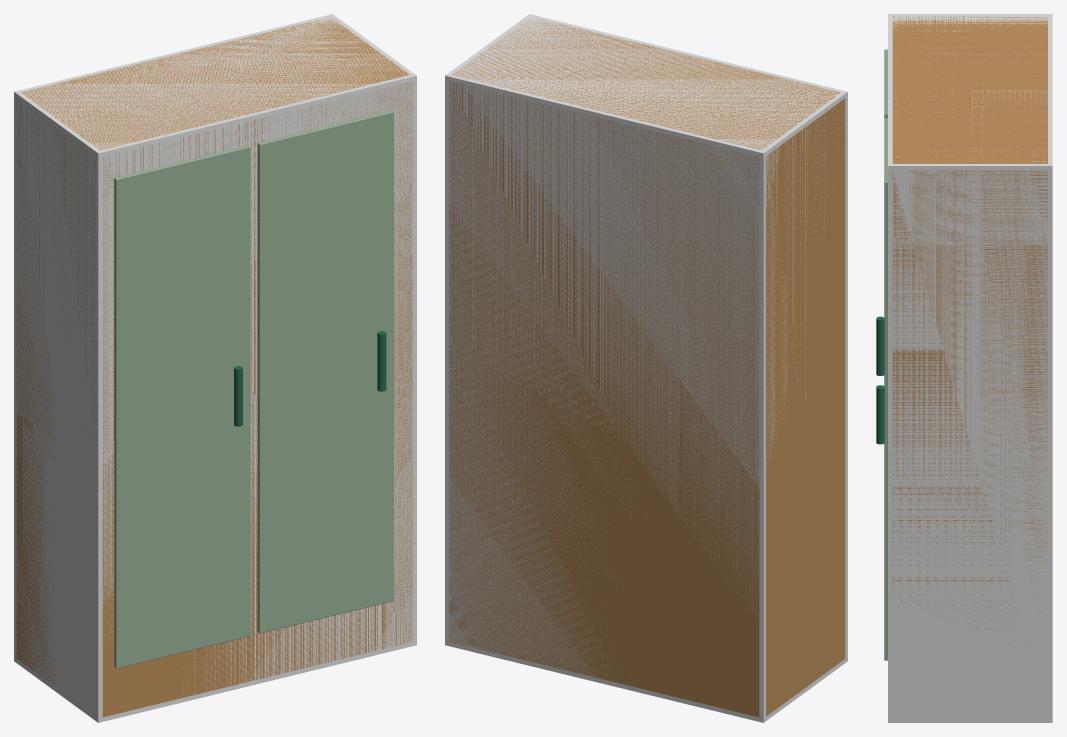
File: member-locker_retail.glb
3 renders of one model, left to right at view 1: azimuth 30°, elevation 25°; view 2: azimuth 150°, elevation 25°; view 3: azimuth 270°, elevation 25°, orthographic. The views are drawn at different scales.
Parts seen in each view (by area): view 1: COL_member-locker, MESH_Door_02, MESH_Door_01, MESH_CabinetCarcass; view 2: MESH_CabinetCarcass, COL_member-locker; view 3: COL_member-locker, MESH_CabinetCarcass, MESH_Door_02, MESH_Handle.001, MESH_Handle.
Boxes of the visible parts, x1=… form: COL_member-locker: x1=14, y1=14, x2=416, y2=722; MESH_Door_02: x1=257, y1=110, x2=393, y2=633; MESH_Door_01: x1=114, y1=145, x2=250, y2=668; MESH_CabinetCarcass: x1=16, y1=17, x2=412, y2=717; MESH_CabinetCarcass: x1=449, y1=19, x2=845, y2=717; COL_member-locker: x1=445, y1=14, x2=847, y2=722; COL_member-locker: x1=888, y1=14, x2=1052, y2=722; MESH_CabinetCarcass: x1=892, y1=16, x2=1047, y2=660; MESH_Door_02: x1=884, y1=118, x2=887, y2=660; MESH_Handle.001: x1=876, y1=385, x2=884, y2=444; MESH_Handle: x1=876, y1=316, x2=884, y2=375.
Size of the model in its own units: 1.2 by 2.05 by 0.5891.
